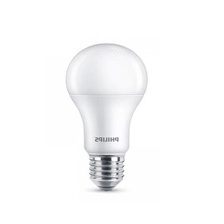light_bulb: (62, 36, 155, 193)
